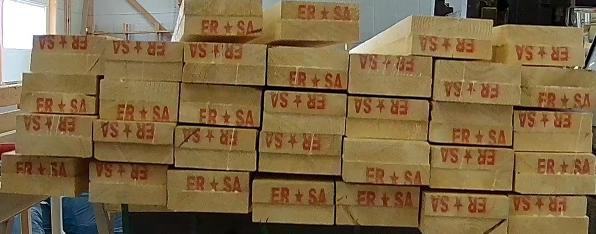Wood-Plank: (350, 66, 432, 96), (423, 191, 510, 218), (343, 138, 431, 164), (336, 181, 420, 208), (1, 151, 88, 177), (264, 90, 348, 116), (253, 178, 334, 204), (16, 113, 94, 140), (435, 80, 522, 104), (343, 160, 430, 184), (494, 43, 584, 66), (430, 121, 512, 146), (260, 131, 342, 156), (175, 125, 256, 150), (93, 119, 174, 144), (494, 24, 585, 46), (436, 61, 522, 84), (432, 102, 513, 126), (349, 96, 430, 120), (179, 102, 260, 126), (186, 40, 266, 64), (263, 111, 346, 134), (100, 78, 179, 102), (89, 160, 166, 184), (516, 153, 596, 176), (1, 175, 88, 196), (412, 16, 495, 38), (432, 146, 515, 168), (259, 154, 342, 176), (523, 85, 596, 110), (183, 62, 265, 84), (337, 206, 419, 228), (167, 190, 249, 212), (268, 67, 346, 90), (432, 168, 513, 190), (347, 118, 428, 140), (175, 148, 256, 170), (21, 91, 98, 114), (413, 36, 493, 58), (103, 40, 182, 62), (515, 110, 594, 132), (94, 142, 173, 164), (100, 100, 178, 122), (89, 184, 166, 206), (15, 136, 92, 158), (420, 215, 508, 234), (167, 172, 250, 192), (180, 84, 263, 104), (351, 54, 433, 74), (252, 204, 334, 224), (523, 66, 596, 88), (282, 20, 360, 40), (515, 132, 593, 152), (510, 196, 587, 216), (516, 175, 596, 194), (22, 74, 98, 94), (269, 48, 348, 67), (31, 53, 102, 74), (510, 216, 589, 234), (185, 16, 263, 34), (104, 62, 182, 80), (282, 2, 359, 20), (32, 36, 104, 54), (184, 0, 262, 16)
